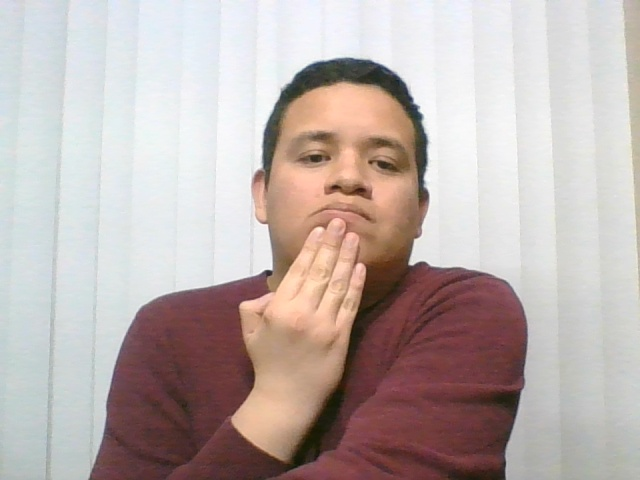Thank you: (196, 208, 421, 432)
